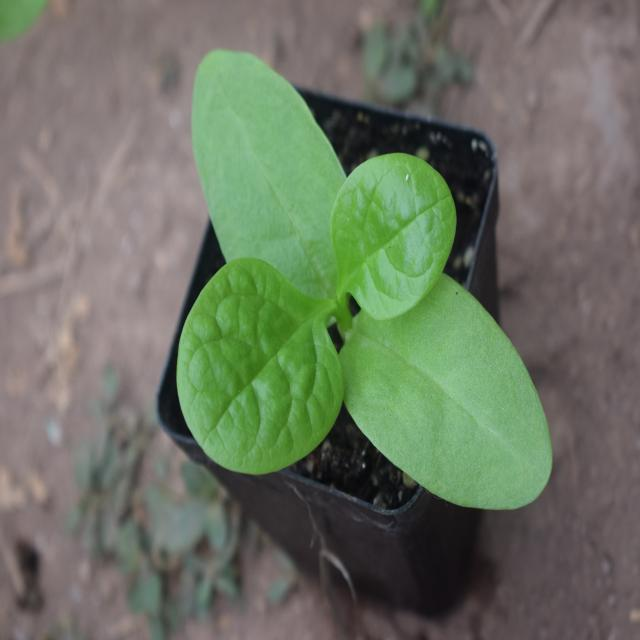Ceylon spinach: (190, 54, 550, 520)
